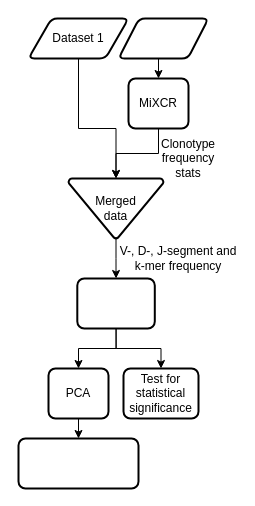
Image size: 255x506. Some labels were removed from this diagram. The box of each missing label's shape, as (x1, y1, x2, y2) in pixels:
Dataset 2 (raw reads): (117, 17, 209, 59)
ML models (CatBoost and others): (17, 437, 139, 489)
V usage normalization: (76, 277, 155, 329)
